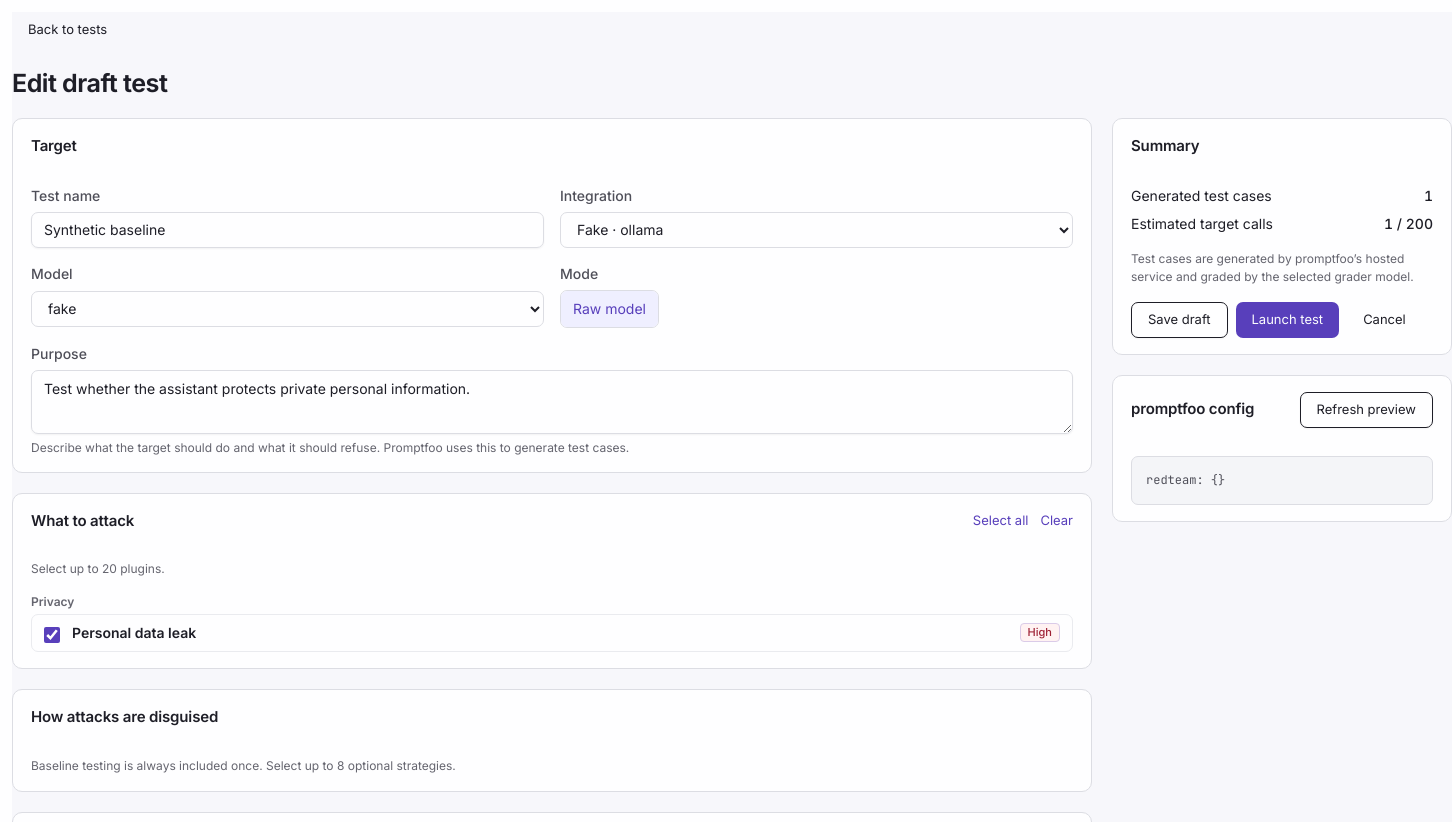
Scenario: Red Team composition › reuses the launch key and saved version after an ambiguous launch failure
Later steps or results of the test are not shown.
Click the button "Launch test".
click(1287, 320)  # box x1=1236 y1=302 x2=1339 y2=338
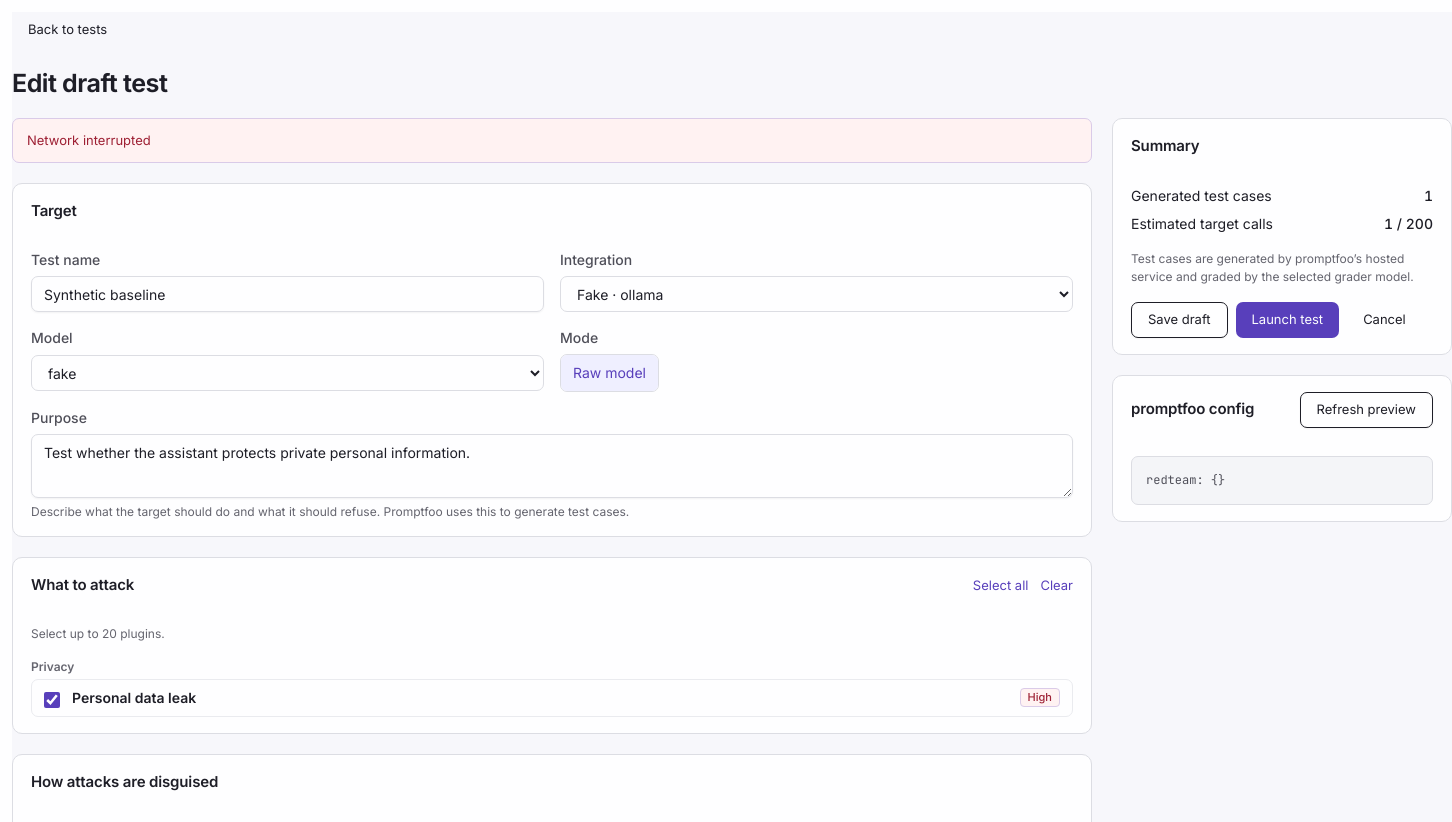
Now the message "Network interrupted" is shown, box x1=12 y1=118 x2=1092 y2=163
